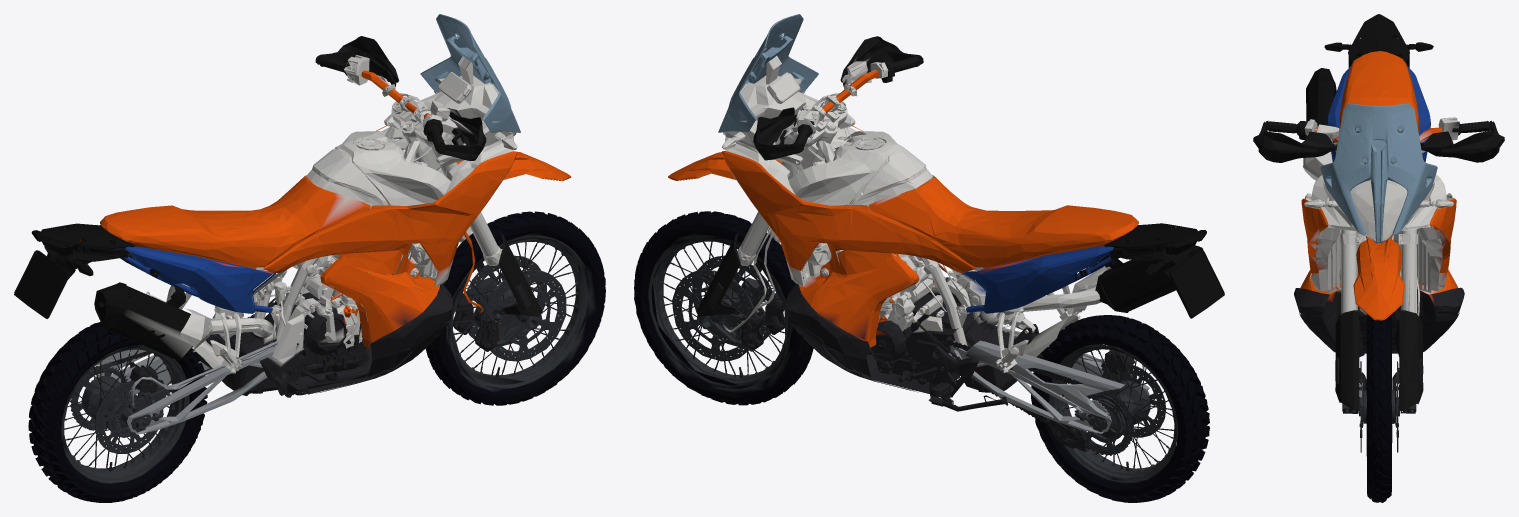
Rendered from ktm.glb.
The picture shows the model from 3 angles, left to right: view 1: azimuth 30°, elevation 25°; view 2: azimuth 150°, elevation 25°; view 3: azimuth 270°, elevation 25°; orthographic projection. The views are drawn at different scales.
Parts seen in each view (by area): view 1: body, wheel_rear, wheel_front, glass; view 2: body, wheel_rear, wheel_front, glass; view 3: body, glass, wheel_front.
Part boxes in pixels (box(x1,y1,x2,y2)): body: box(14, 36, 577, 471); wheel_rear: box(28, 321, 207, 502); wheel_front: box(425, 211, 605, 405); glass: box(420, 14, 520, 132); body: box(661, 36, 1224, 471); wheel_rear: box(1031, 315, 1209, 502); wheel_front: box(634, 211, 813, 405); glass: box(718, 14, 818, 134); body: box(1253, 14, 1504, 446); glass: box(1320, 103, 1437, 243); wheel_front: box(1339, 315, 1416, 502).
Bounding box in the file's own units: 1.95 × 1.27 × 0.7942.
